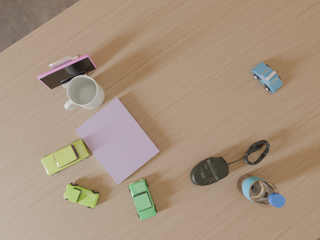book: (75, 98, 160, 185)
bottle: (237, 174, 285, 208)
cup: (64, 75, 105, 111)
mouse: (190, 157, 231, 186)
phone: (37, 54, 96, 89)
toy_car: (41, 139, 89, 175), (129, 179, 157, 220), (251, 63, 282, 93), (63, 183, 99, 208)
